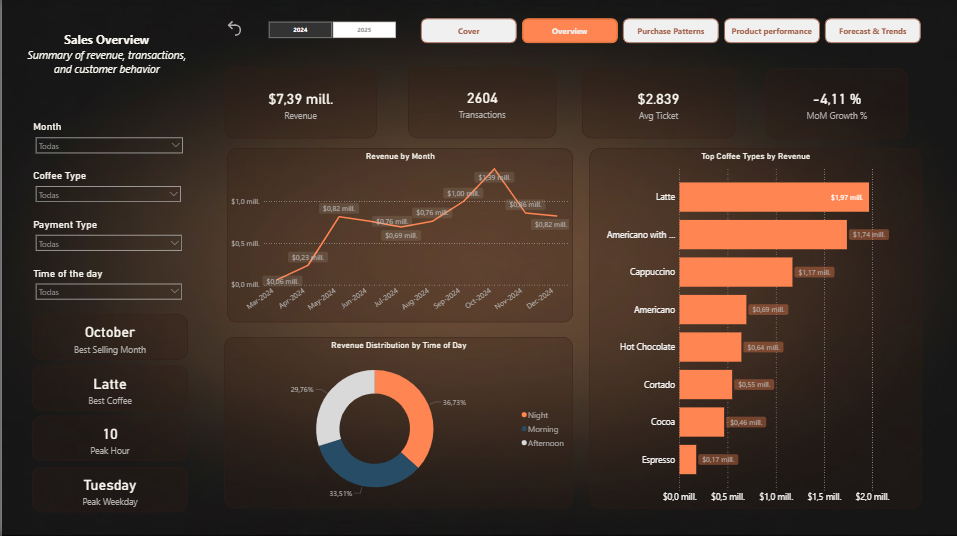

The page's visual inventory and layout, read from the dashboard file:
{"tool":"powerbi","page":{"name":"Overview","canvas":[1918,1078],"ordinal":1},"visuals":[{"type":"textbox","box":[38,42,344,162],"z":0},{"type":"slicer","title":"Month","fields":{"Values":["DimDate.MontName_EN"]},"box":[57.2,247.2,314,90],"z":1000},{"type":"slicer","title":"Coffee Type","fields":{"Values":["DimProduct.coffee_name"]},"box":[58,345.2,310,90],"z":2000},{"type":"card","fields":{"Values":["Medidas DAX (2).Revenue"]},"box":[446,142,304,140],"z":3000},{"type":"card","fields":{"Values":["Medidas DAX (2).Transactions"]},"box":[812,140,296,142],"z":4000},{"type":"card","fields":{"Values":["Medidas DAX (2).Avg Ticket"]},"box":[1160,142,306,140],"z":5000},{"type":"card","fields":{"Values":["Medidas DAX (2).MoM Growth %"]},"box":[1528,142,284,140],"z":6000},{"type":"lineChart","title":"Revenue by Month","fields":{"Y":["Medidas DAX (2).Revenue"],"Category":["DimDate.MonthYear_Label"]},"box":[450,302,692,348],"z":7000},{"type":"barChart","title":"Top Coffee Types by Revenue","fields":{"Category":["DimProduct.coffee_name"],"Y":["Medidas DAX (2).Revenue"]},"box":[1174,302,664,720],"z":8000},{"type":"donutChart","title":"Revenue Distribution by Time of Day","fields":{"Y":["Medidas DAX (2).Revenue"],"Category":["DimTime.Time_of_Day"]},"box":[446,680,696,342],"z":9000},{"type":"card","fields":{"Values":["Medidas DAX (2).Best Selling Month"]},"box":[60.4,635.2,312,90],"z":10000},{"type":"card","fields":{"Values":["Medidas DAX (2).Best Coffee"]},"box":[60.4,736.5,312,90],"z":11000},{"type":"card","fields":{"Values":["Medidas DAX (2).Peak Hour"]},"box":[60.4,837.9,312,90],"z":12000},{"type":"card","fields":{"Values":["Medidas DAX (2).Peak Weekday"]},"box":[60.4,939.2,312,90],"z":13000},{"type":"slicer","title":"Payment Type","fields":{"Values":["DimPayment.cash_type"]},"box":[57.2,443.2,312,90],"z":14000},{"type":"slicer","title":"Time of the day","fields":{"Values":["DimTime.Time_of_Day"]},"box":[57.2,541.2,312,90],"z":15000},{"type":"pageNavigator","box":[838,42,1000,50],"z":16000},{"type":"actionButton","box":[445,42.5,40,40],"z":17000},{"type":"slicer","fields":{"Values":["DimDate.Año"]},"box":[508,42,304,46],"z":18000}]}

Visuals, with their boxes in screenshot pixels (x1, y1, x2, y2), scaled from the page's 1918x1078 canvas onto the 957x536 screenshot:
textbox: box=[19, 21, 191, 101]
"Month" slicer: box=[29, 123, 185, 168]
"Coffee Type" slicer: box=[29, 172, 184, 216]
card - Medidas DAX (2).Revenue: box=[223, 71, 374, 140]
card - Medidas DAX (2).Transactions: box=[405, 70, 553, 140]
card - Medidas DAX (2).Avg Ticket: box=[579, 71, 731, 140]
card - Medidas DAX (2).MoM Growth %: box=[762, 71, 904, 140]
"Revenue by Month" lineChart: box=[225, 150, 570, 323]
"Top Coffee Types by Revenue" barChart: box=[586, 150, 917, 508]
"Revenue Distribution by Time of Day" donutChart: box=[223, 338, 570, 508]
card - Medidas DAX (2).Best Selling Month: box=[30, 316, 186, 361]
card - Medidas DAX (2).Best Coffee: box=[30, 366, 186, 411]
card - Medidas DAX (2).Peak Hour: box=[30, 417, 186, 461]
card - Medidas DAX (2).Peak Weekday: box=[30, 467, 186, 512]
"Payment Type" slicer: box=[29, 220, 184, 265]
"Time of the day" slicer: box=[29, 269, 184, 314]
pageNavigator: box=[418, 21, 917, 46]
actionButton: box=[222, 21, 242, 41]
slicer - DimDate.Año: box=[253, 21, 405, 44]
